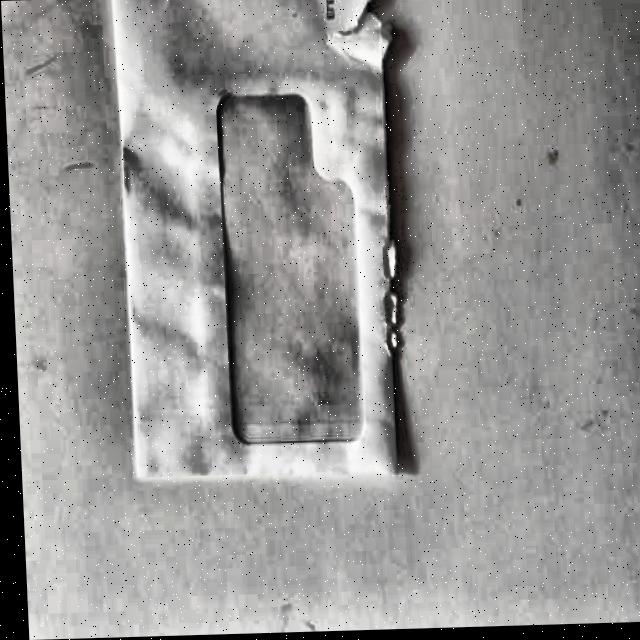paper: (109, 0, 410, 480)
